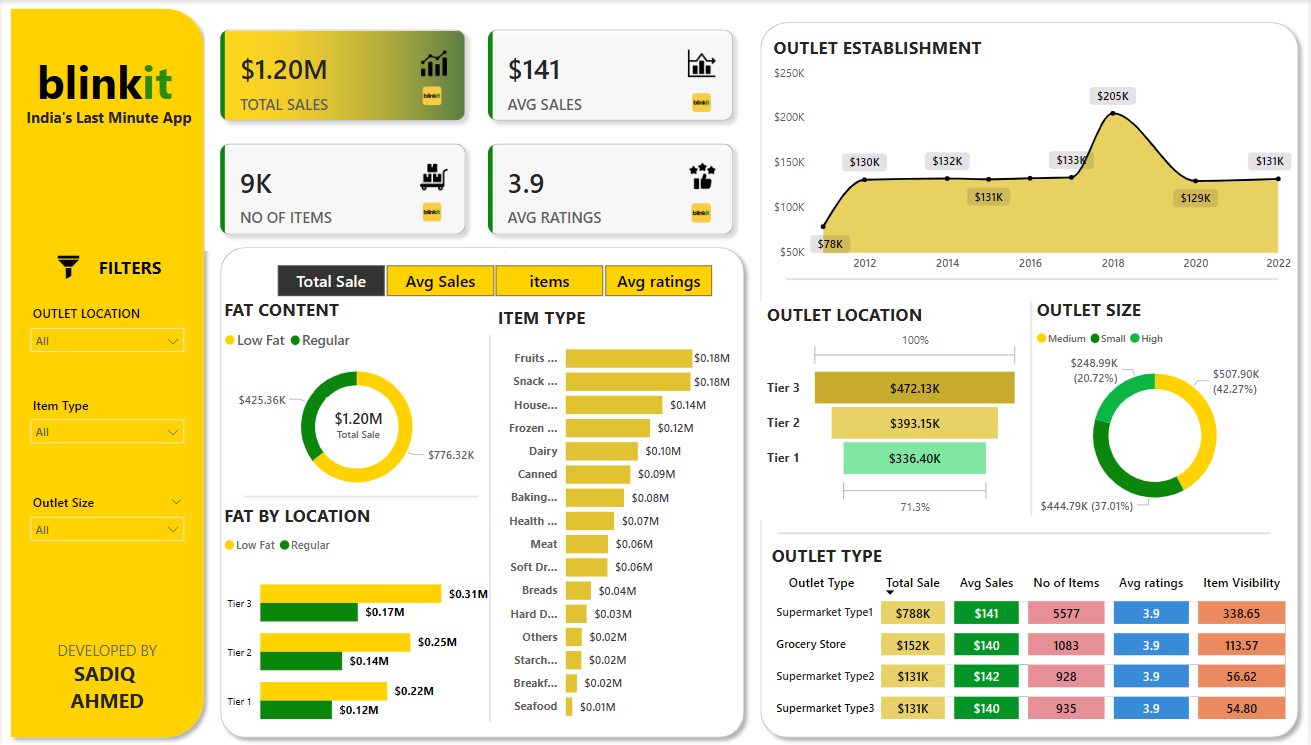

What the dashboard file says about the page in this screenshot:
{"tool":"powerbi","page":{"name":"Page 1","canvas":[1400,800],"ordinal":0},"visuals":[{"type":"shape","box":[0,0,225.4,800],"z":0},{"type":"textbox","box":[32.2,49.2,176.3,76.3],"z":1000},{"type":"textbox","box":[13.4,109.9,202.4,32.2],"z":2000},{"type":"cardVisual","fields":{"Data":["BlinkIT Grocery Data.Total Sale","BlinkIT Grocery Data.Avg Sales","BlinkIT Grocery Data.items","BlinkIT Grocery Data.Avg ratings"]},"box":[217.2,14.7,585.8,254.7],"z":3000},{"type":"shape","box":[225.4,255.9,579.7,544.1],"z":4000},{"type":"donutChart","title":"FAT CONTENT","fields":{"Y":["BlinkIT Grocery Data.Total Sale"],"Category":["BlinkIT Grocery Data.Item Fat Content"]},"box":[233.9,318.6,294.9,222],"z":5000},{"type":"slicer","fields":{"Values":["Metrics.Metrics"]},"box":[269.6,277.3,516.4,45.8],"z":6000},{"type":"cardVisual","fields":{"Data":["BlinkIT Grocery Data.Total Sale"]},"box":[347.6,426.7,66.8,60.6],"z":7000},{"type":"clusteredBarChart","title":"FAT BY LOCATION","fields":{"Series":["BlinkIT Grocery Data.Item Fat Content"],"Y":["BlinkIT Grocery Data.Total Sale"],"Category":["BlinkIT Grocery Data.Outlet Location Type"]},"box":[233.9,540.7,294.9,259.3],"z":8000},{"type":"barChart","title":"ITEM TYPE","fields":{"Y":["BlinkIT Grocery Data.Total Sale"],"Category":["BlinkIT Grocery Data.Item Type"]},"box":[527.1,327.1,259.3,455.9],"z":9000},{"type":"shape","box":[259.3,523.7,252.5,16.9],"z":10000},{"type":"shape","box":[804,14.8,594.9,785.4],"z":11000},{"type":"lineChart","title":"OUTLET ESTABLISHMENT","fields":{"Category":["BlinkIT Grocery Data.Outlet Establishment Year"],"Y":["BlinkIT Grocery Data.Total Sale"]},"box":[820.3,37.9,567.2,262.2],"z":12000},{"type":"donutChart","title":"OUTLET SIZE","fields":{"Category":["BlinkIT Grocery Data.Outlet Size"],"Y":["BlinkIT Grocery Data.Total Sale"]},"box":[1104.6,319,264.1,244],"z":13000},{"type":"funnel","title":"OUTLET LOCATION","fields":{"Category":["BlinkIT Grocery Data.Outlet Location Type"],"Y":["BlinkIT Grocery Data.Total Sale"]},"box":[812.3,323.1,284.2,234.6],"z":14000},{"type":"pivotTable","title":"OUTLET TYPE","fields":{"Rows":["BlinkIT Grocery Data.Outlet Type"],"Values":["BlinkIT Grocery Data.Total Sale","BlinkIT Grocery Data.Avg Sales","BlinkIT Grocery Data.items","BlinkIT Grocery Data.Avg ratings","Sum(BlinkIT Grocery Data.Item Visibility)"]},"box":[821,579.3,565.8,204.1],"z":15000},{"type":"shape","box":[833,564.3,528.3,15],"z":16000},{"type":"shape","box":[1097.9,323.1,12.1,230.6],"z":17000},{"type":"shape","box":[840.5,292.2,528.2,14.7],"z":18000},{"type":"shape","box":[516.9,359.3,11.9,415.3],"z":19000},{"type":"slicer","fields":{"Values":["BlinkIT Grocery Data.Outlet Location Type"]},"box":[20.1,319,185,71],"z":20000},{"type":"slicer","fields":{"Values":["BlinkIT Grocery Data.Item Type"]},"box":[20.1,416.9,185,69.7],"z":21000},{"type":"slicer","fields":{"Values":["BlinkIT Grocery Data.Outlet Size"]},"box":[20.1,521.5,185,68.4],"z":22000},{"type":"image","box":[446.4,87.1,29.5,30.8],"z":23000},{"type":"image","box":[734.6,213.1,30.8,30.8],"z":24000},{"type":"image","box":[534.3,247.6,10.5,43.5],"z":25000},{"type":"image","box":[446.4,211.8,29.5,30.8],"z":26000},{"type":"image","box":[734.6,95.2,30.8,29.5],"z":27000},{"type":"textbox","box":[92.5,269.4,89.8,38.9],"z":28000},{"type":"image","box":[50.9,269.4,41.6,34.9],"z":29000},{"type":"textbox","box":[21.4,681,182.3,93.8],"z":30000}]}

Visuals, with their boxes in screenshot pixels (x1, y1, x2, y2), scaled from the page's 1400x800 canvas onto the 1311x745 screenshot:
shape: (left=0, top=0, right=211, bottom=744)
textbox: (left=30, top=46, right=195, bottom=117)
textbox: (left=13, top=102, right=202, bottom=132)
cardVisual - BlinkIT Grocery Data.Total Sale x BlinkIT Grocery Data.Avg Sales: (left=203, top=14, right=752, bottom=251)
shape: (left=211, top=238, right=754, bottom=744)
"FAT CONTENT" donutChart: (left=219, top=297, right=495, bottom=503)
slicer - Metrics.Metrics: (left=252, top=258, right=736, bottom=301)
cardVisual - BlinkIT Grocery Data.Total Sale: (left=326, top=397, right=388, bottom=454)
"FAT BY LOCATION" clusteredBarChart: (left=219, top=504, right=495, bottom=744)
"ITEM TYPE" barChart: (left=494, top=305, right=736, bottom=729)
shape: (left=243, top=488, right=479, bottom=503)
shape: (left=753, top=14, right=1310, bottom=744)
"OUTLET ESTABLISHMENT" lineChart: (left=768, top=35, right=1299, bottom=279)
"OUTLET SIZE" donutChart: (left=1034, top=297, right=1282, bottom=524)
"OUTLET LOCATION" funnel: (left=761, top=301, right=1027, bottom=519)
"OUTLET TYPE" pivotTable: (left=769, top=539, right=1299, bottom=730)
shape: (left=780, top=526, right=1275, bottom=539)
shape: (left=1028, top=301, right=1039, bottom=516)
shape: (left=787, top=272, right=1282, bottom=286)
shape: (left=484, top=335, right=495, bottom=721)
slicer - BlinkIT Grocery Data.Outlet Location Type: (left=19, top=297, right=192, bottom=363)
slicer - BlinkIT Grocery Data.Item Type: (left=19, top=388, right=192, bottom=453)
slicer - BlinkIT Grocery Data.Outlet Size: (left=19, top=486, right=192, bottom=549)
image: (left=418, top=81, right=446, bottom=110)
image: (left=688, top=198, right=717, bottom=227)
image: (left=500, top=231, right=510, bottom=271)
image: (left=418, top=197, right=446, bottom=226)
image: (left=688, top=89, right=717, bottom=116)
textbox: (left=87, top=251, right=171, bottom=287)
image: (left=48, top=251, right=87, bottom=283)
textbox: (left=20, top=634, right=191, bottom=722)
